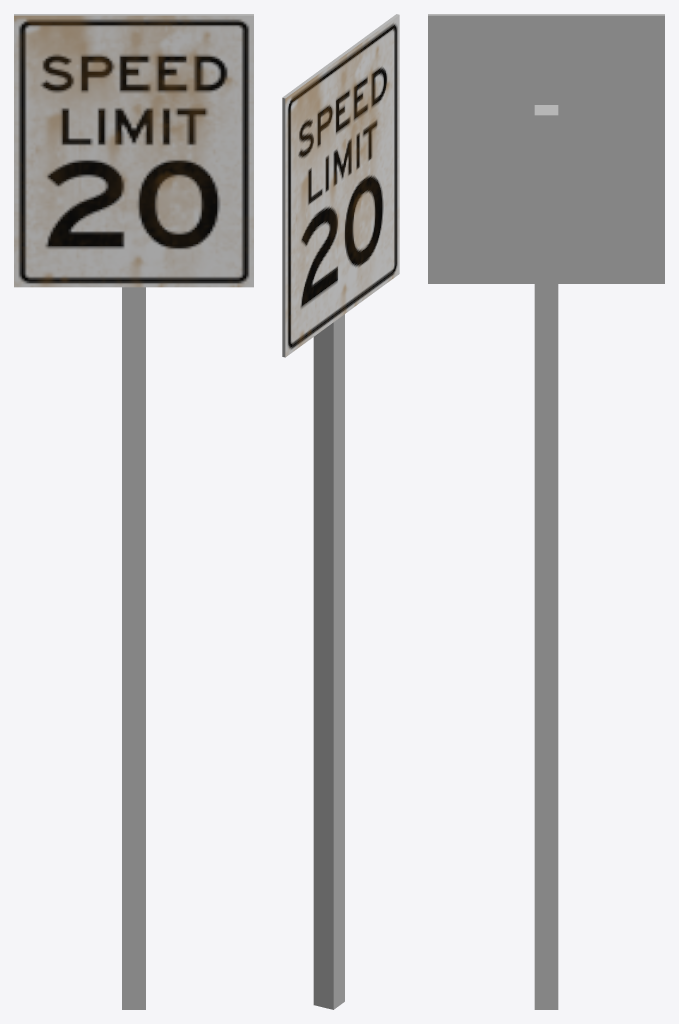
Rendered from trafficSign_rectangle.fbx.
3 renders of one model, left to right at view 1: azimuth 90°, elevation 25°; view 2: azimuth 150°, elevation 25°; view 3: azimuth 270°, elevation 25°, orthographic. The views are drawn at different scales.
Visible parts, largest first — view 1: trafficSign_rectangle; view 2: trafficSign_rectangle; view 3: trafficSign_rectangle.
Part boxes in pixels (x1,y1,x2,y2): trafficSign_rectangle: (14, 14, 253, 1009); trafficSign_rectangle: (282, 14, 399, 1009); trafficSign_rectangle: (428, 14, 664, 1009).
Size of the model in its own units: 7.01 by 275 by 60.
